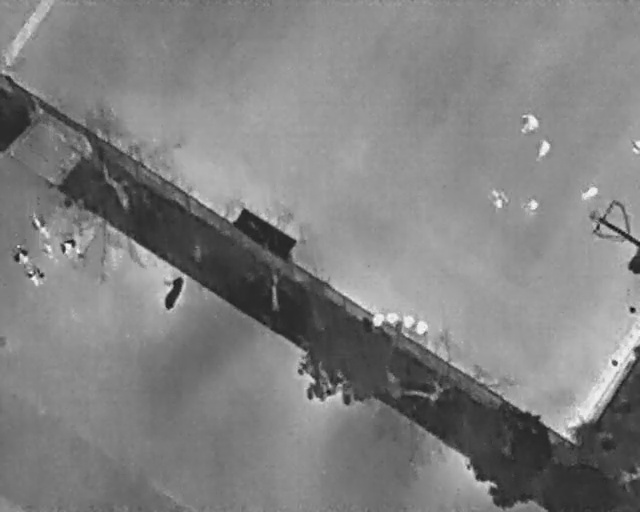Bicycle: (155, 269, 190, 314)
Person: (25, 210, 55, 242), (21, 260, 49, 290), (8, 240, 34, 268), (55, 232, 81, 258), (532, 136, 554, 164), (576, 181, 602, 204), (520, 114, 539, 134), (40, 241, 58, 261), (489, 186, 505, 208), (524, 197, 539, 214), (629, 135, 639, 156)
